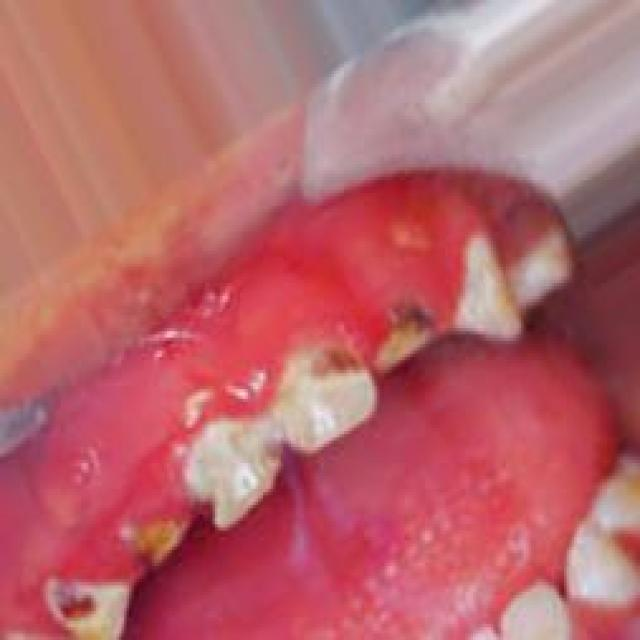caries: (187, 427, 281, 530), (289, 346, 377, 446), (43, 574, 131, 640), (372, 307, 432, 375), (128, 507, 189, 571)
